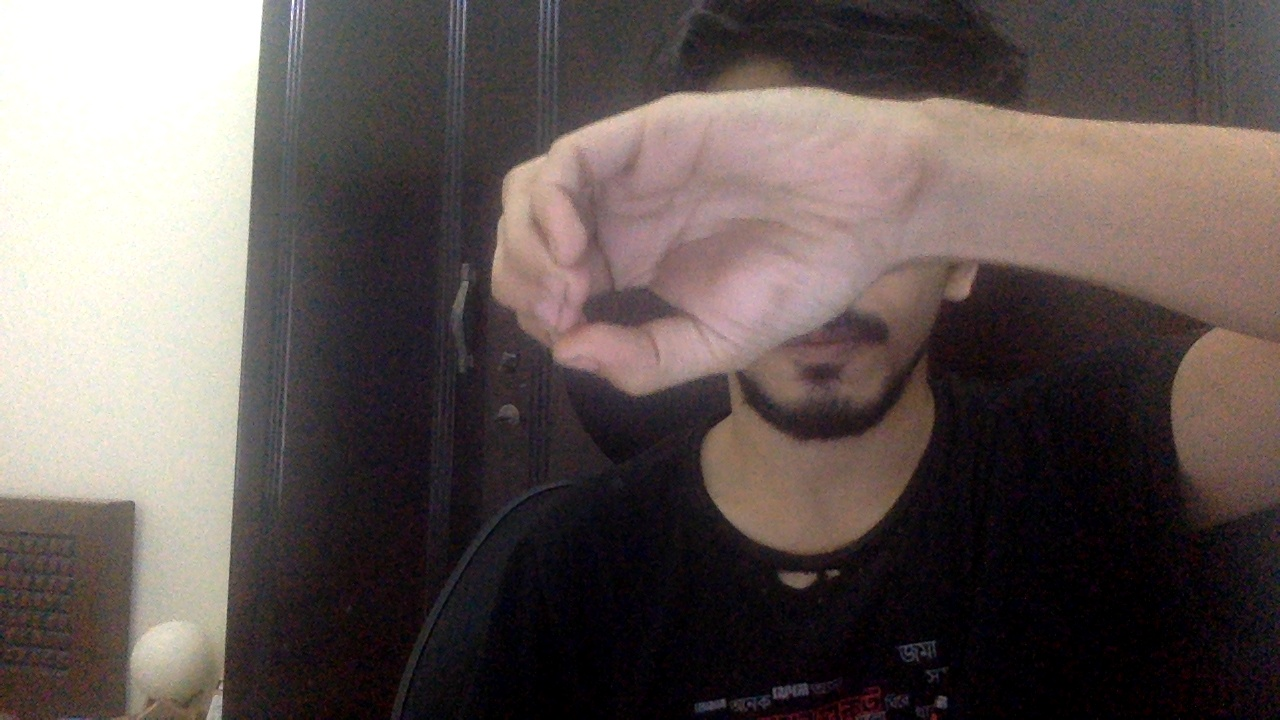zero: (463, 82, 921, 399)
